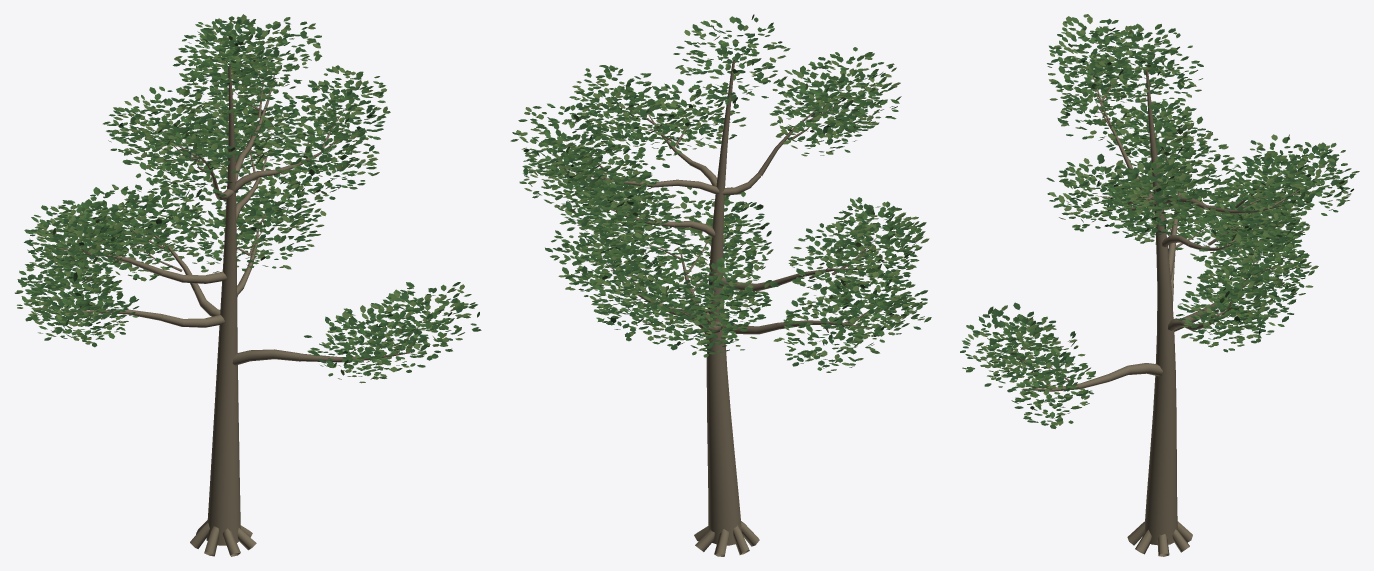
The model's file is Chene_Ancien_1_High.fbx.
The picture shows the model from 3 angles, left to right: view 1: azimuth 30°, elevation 25°; view 2: azimuth 150°, elevation 25°; view 3: azimuth 270°, elevation 25°; orthographic projection. The views are drawn at different scales.
Visible parts, largest first — view 1: Chene_Ancien_1_High; view 2: Chene_Ancien_1_High; view 3: Chene_Ancien_1_High.
Part boxes in pixels (left/top/right/bottom): Chene_Ancien_1_High: left=15, top=14, right=481, bottom=556; Chene_Ancien_1_High: left=510, top=14, right=931, bottom=556; Chene_Ancien_1_High: left=960, top=14, right=1359, bottom=556.
Size of the model in its own units: 825 by 1060 by 745.
